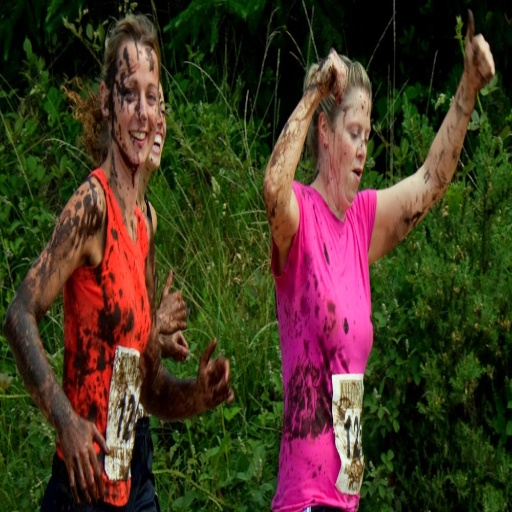hand: (49, 387, 102, 491), (194, 336, 236, 410), (463, 8, 495, 92), (155, 269, 187, 333), (313, 46, 347, 106), (162, 329, 187, 364)
